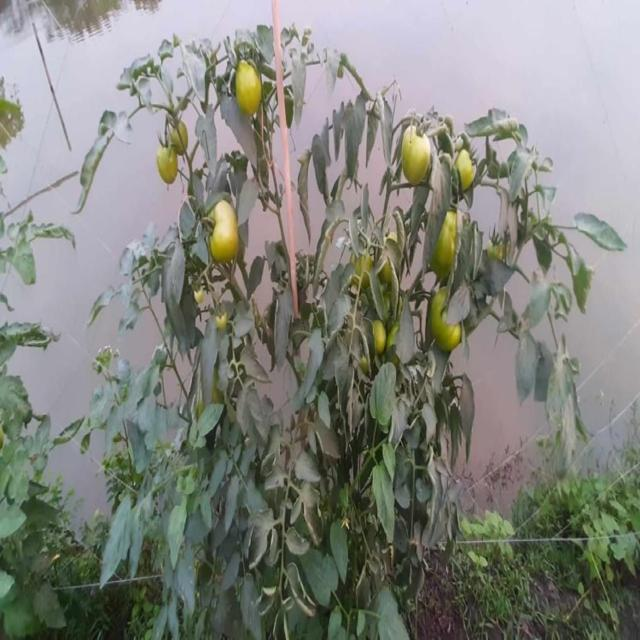tomato: (201, 198, 243, 259), (401, 128, 433, 192), (234, 56, 266, 119), (431, 299, 464, 353), (156, 142, 184, 185), (439, 216, 456, 280), (455, 147, 477, 195), (167, 122, 187, 149), (374, 325, 388, 361)
